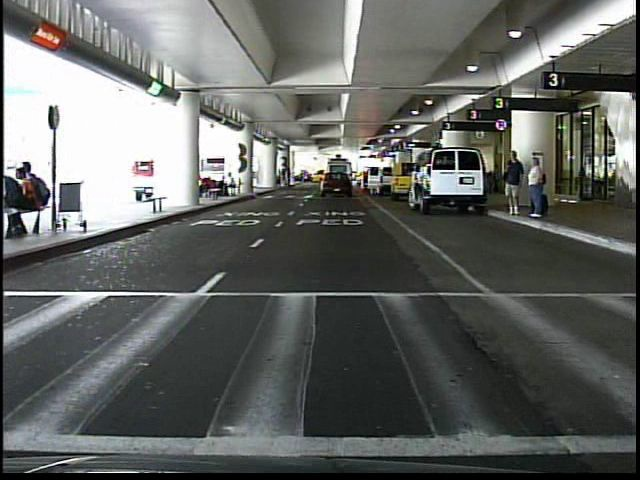person: (500, 146, 525, 219), (525, 153, 548, 224), (334, 171, 344, 193)
